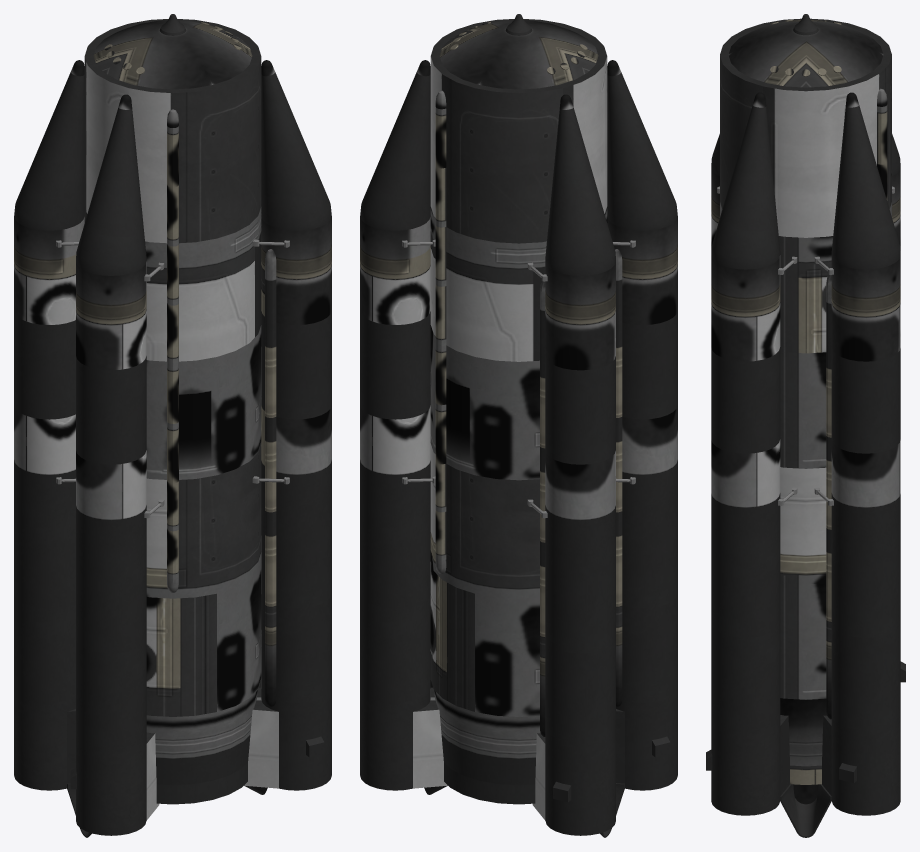
File: fuel2_light.fbx
3 views of the same model, side by side, from view 1: azimuth 30°, elevation 25°; view 2: azimuth 150°, elevation 25°; view 3: azimuth 270°, elevation 25° (orthographic). The views are drawn at different scales.
Parts seen in each view (by area): view 1: mesh; view 2: mesh; view 3: mesh.
Boxes of the visible parts, x1,y1,x2,y2 form: mesh: [14, 14, 331, 837]; mesh: [360, 14, 677, 837]; mesh: [706, 14, 905, 837].
Size of the model in its own units: 4.15 by 12.51 by 2.9.
